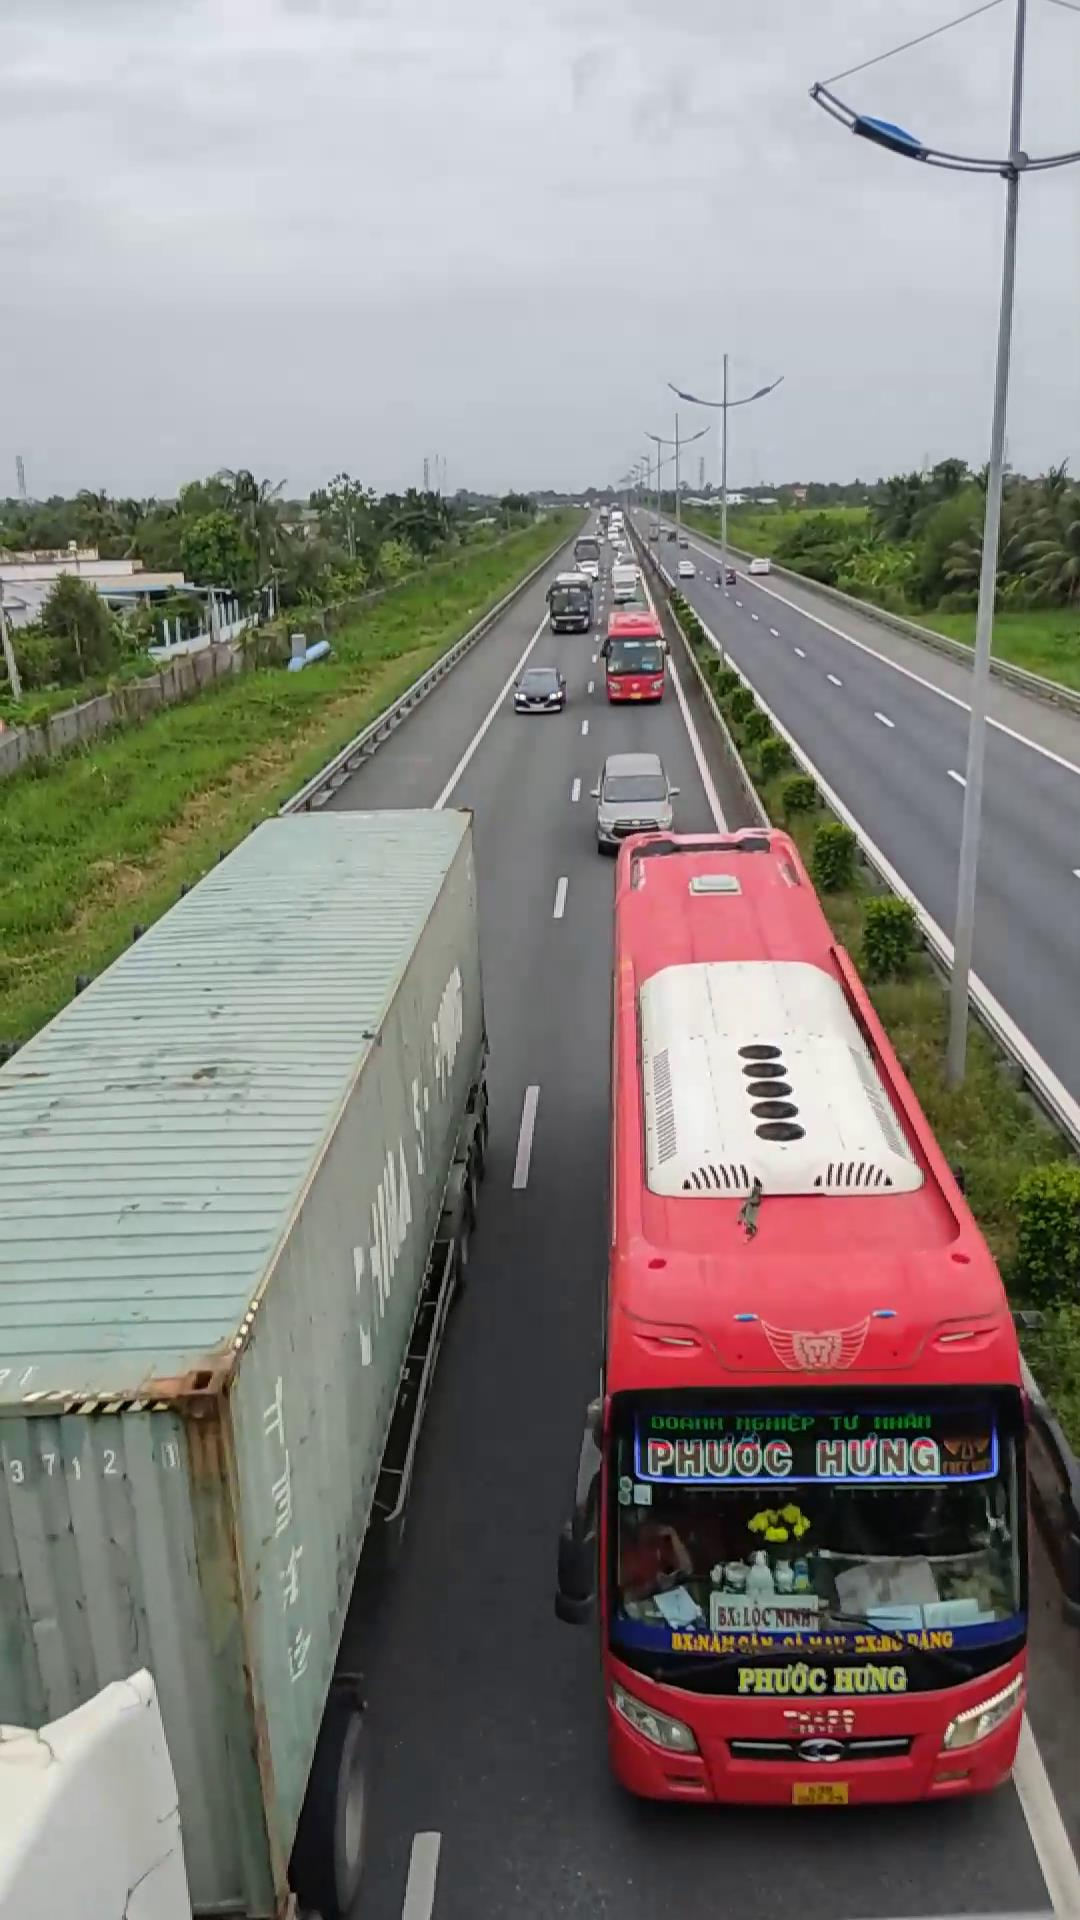bus: (582, 820, 1042, 1807)
car: (585, 750, 678, 855)
container: (0, 806, 479, 1917)
